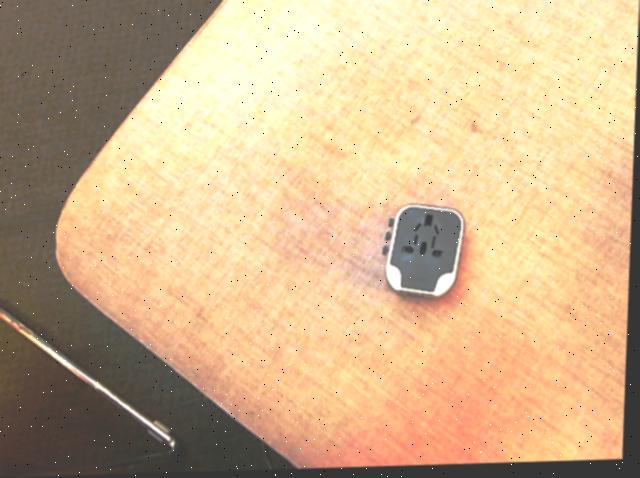adapter: (382, 205, 466, 301)
